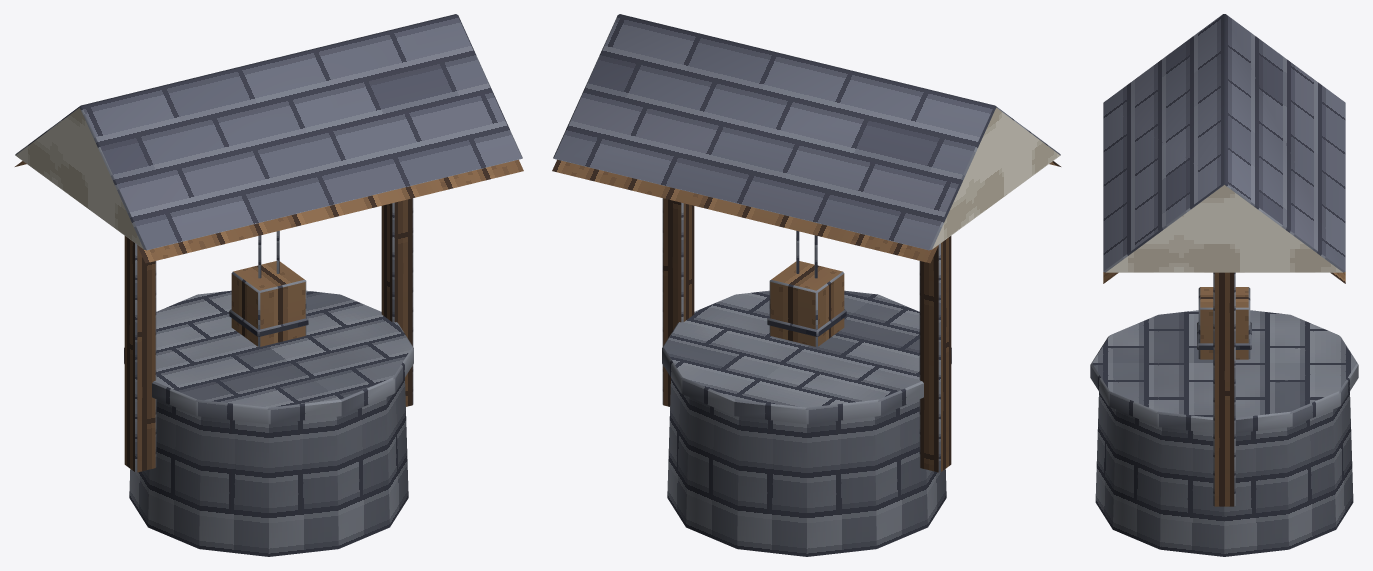
Rendered from well_3.glb.
3 views of the same model, side by side, from view 1: azimuth 30°, elevation 25°; view 2: azimuth 150°, elevation 25°; view 3: azimuth 270°, elevation 25° (orthographic). The views are drawn at different scales.
Parts seen in each view (by area): view 1: well_4; view 2: well_4; view 3: well_4.
Part boxes in pixels (box(x1,y1,x2,y2)): well_4: box(15, 14, 523, 556); well_4: box(552, 14, 1060, 556); well_4: box(1090, 14, 1358, 556).
Bounding box in the file's own units: 2.49 × 2.76 × 1.66.
Materials: 7 (7 with a texture image).
